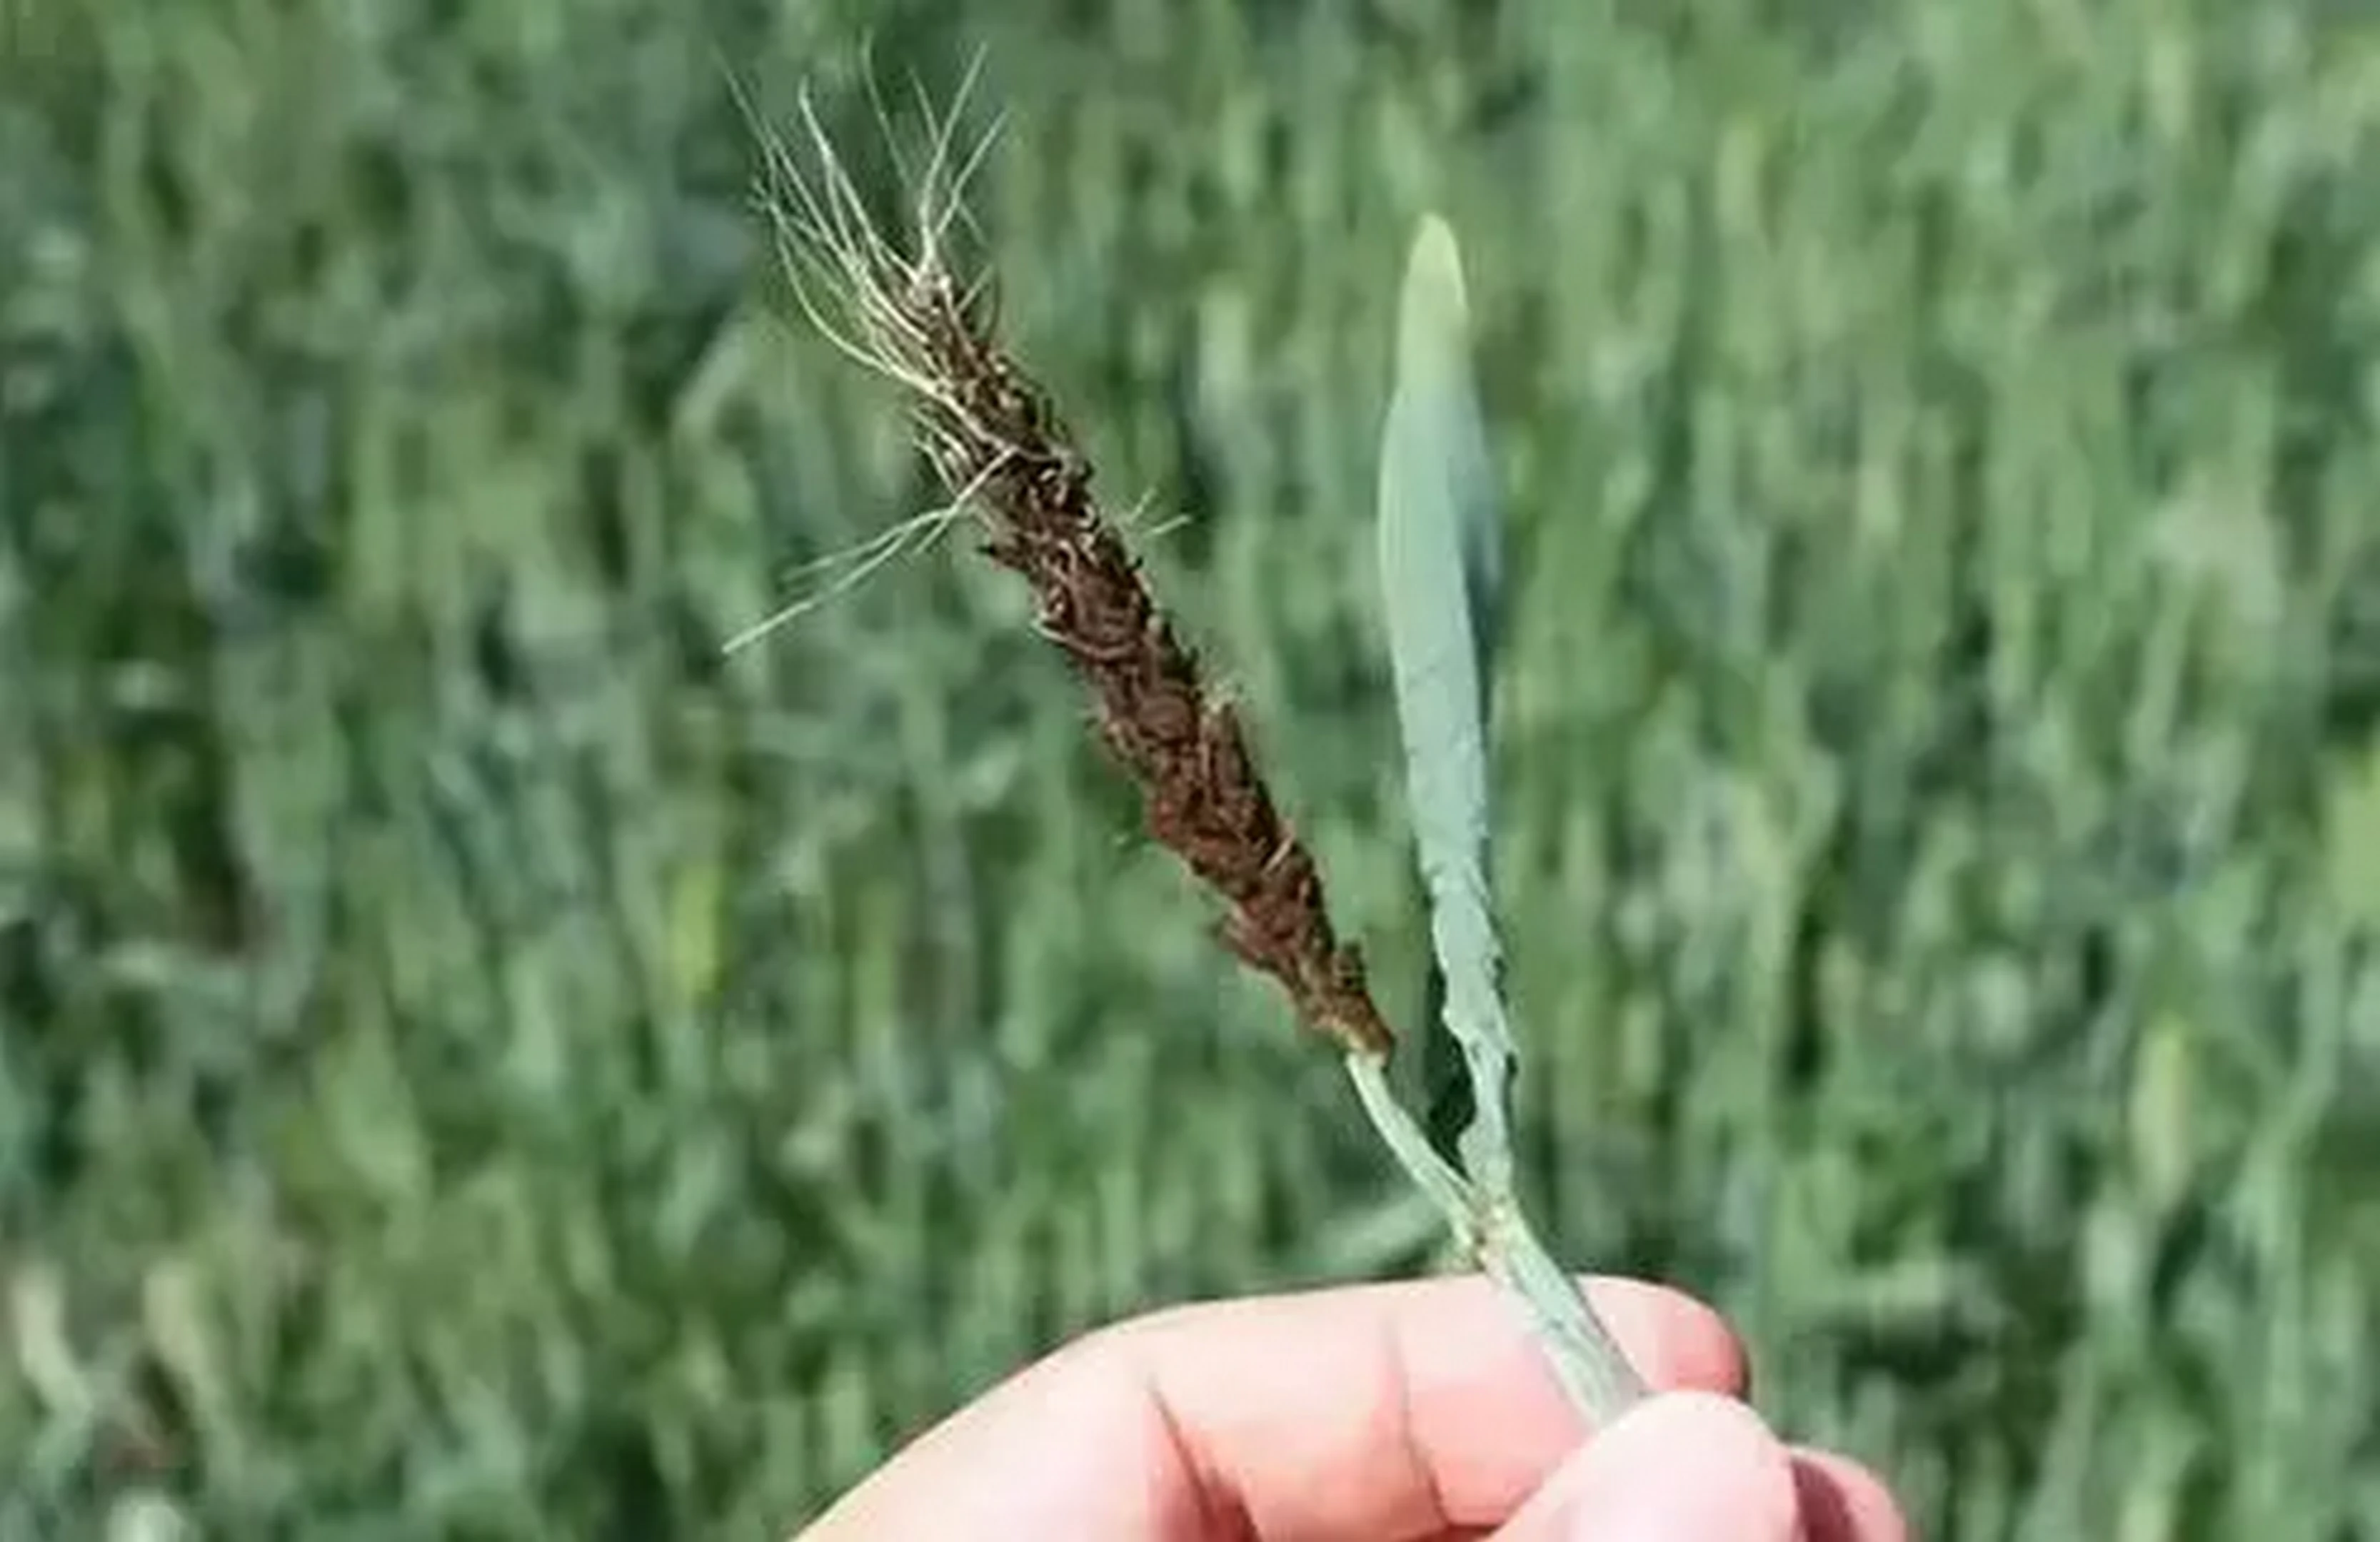Wheat Loose Smut: (791, 231, 1377, 1037)
